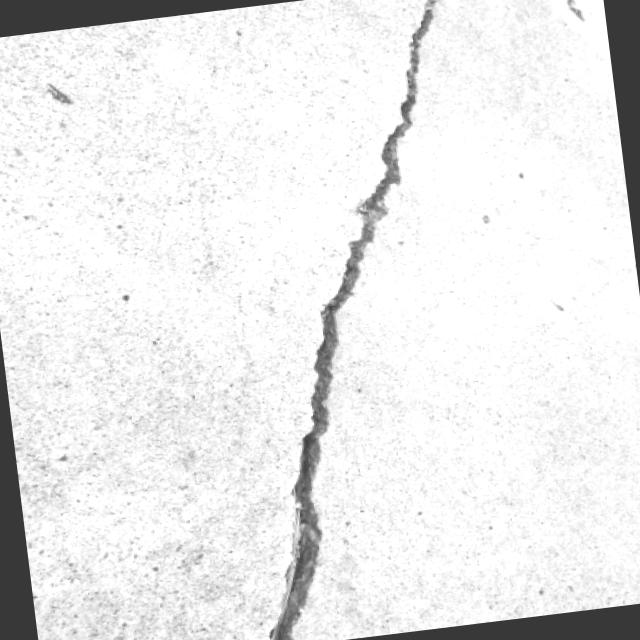crack: (189, 0, 521, 640)
